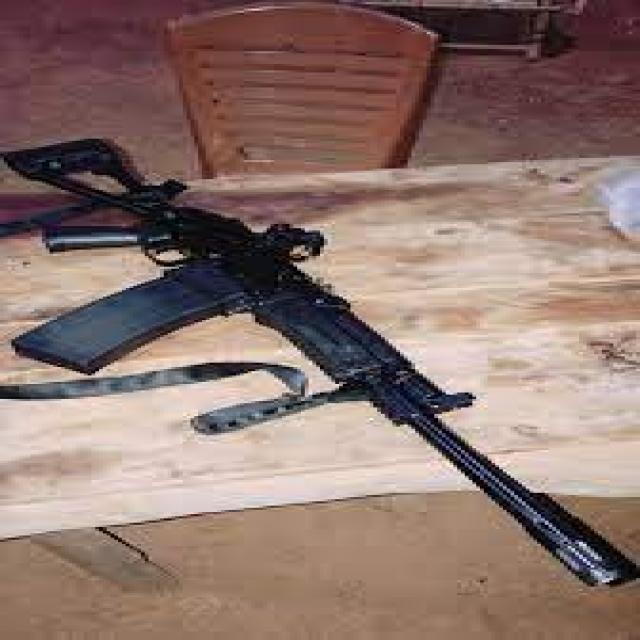weapon: (0, 136, 640, 586)
